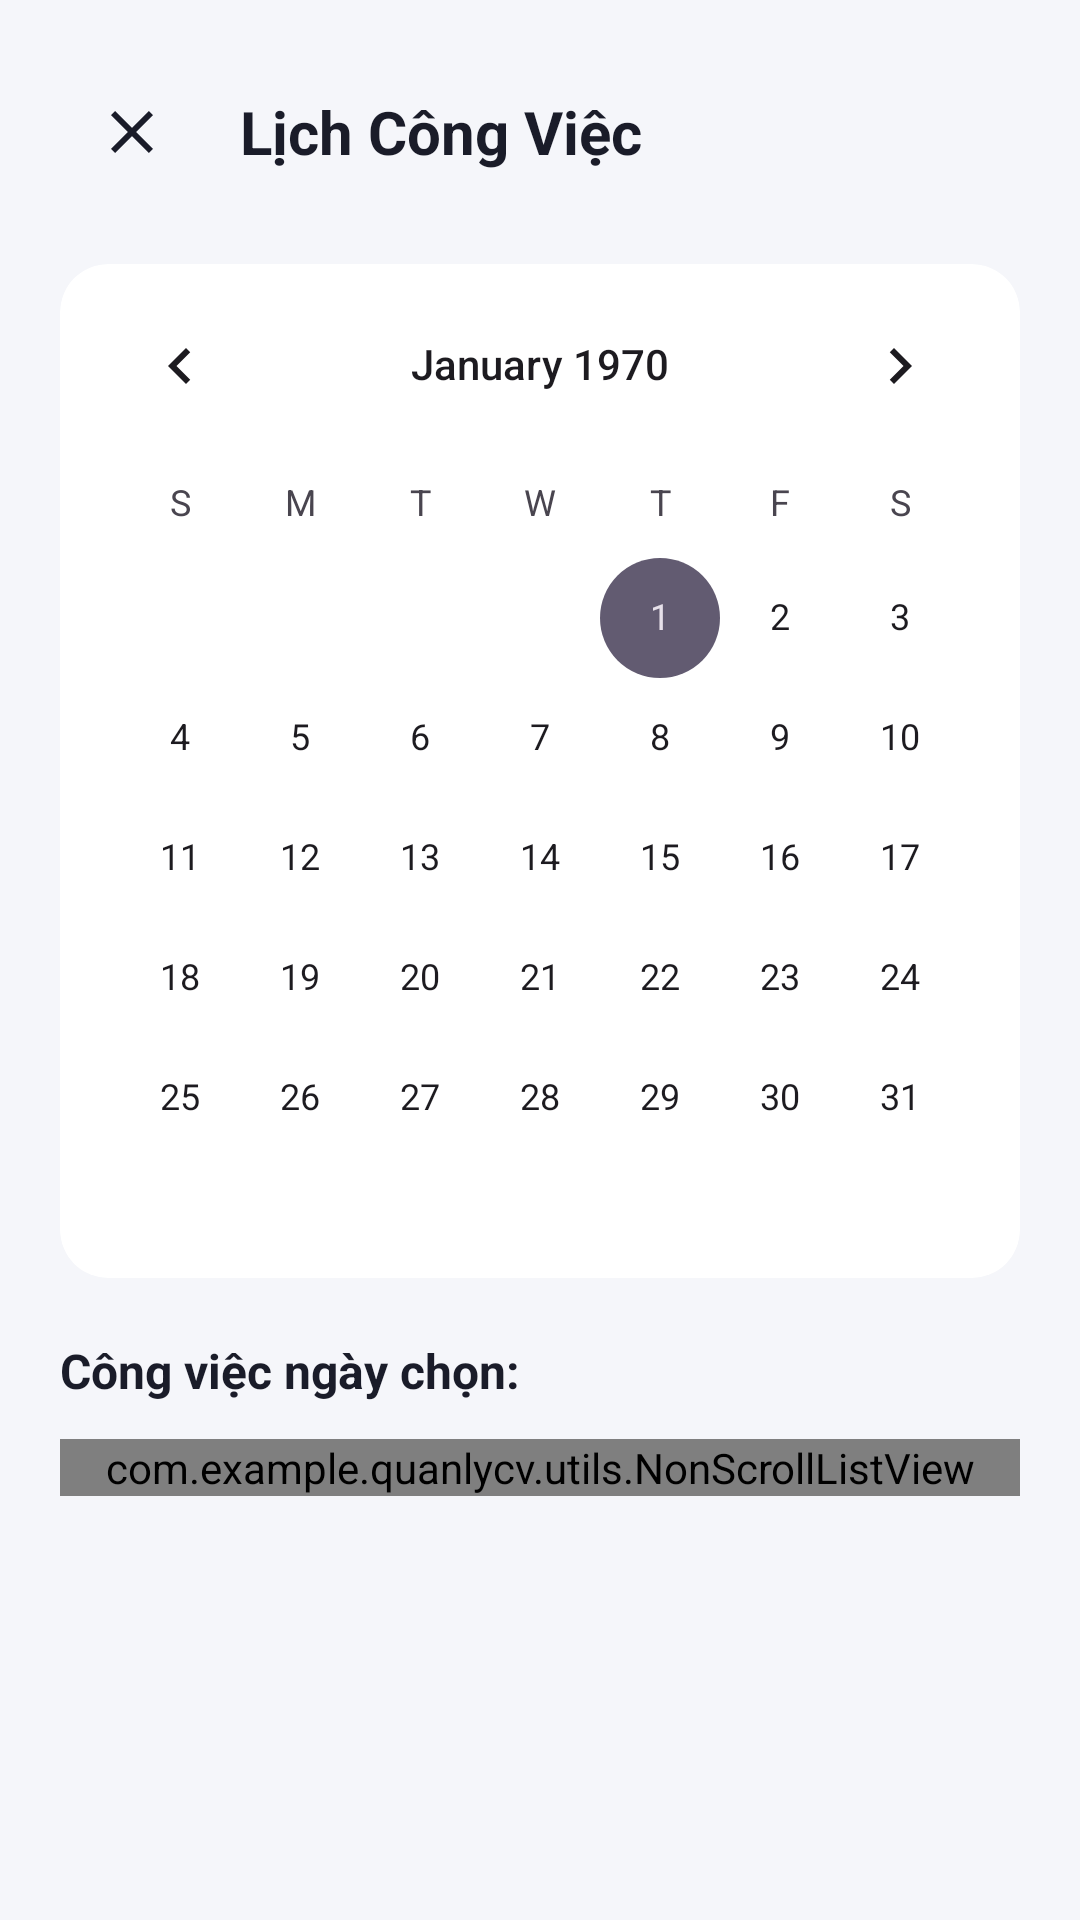

Screen size 1080w x 1920h. Icon name, then its box in pixels as [x1,y1,x2,y2]:
Close: [111,111,153,153]
